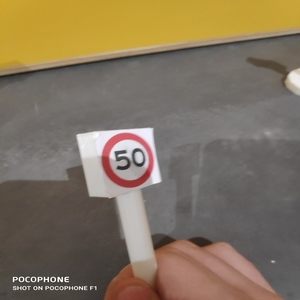50-bord: (101, 133, 153, 188)
